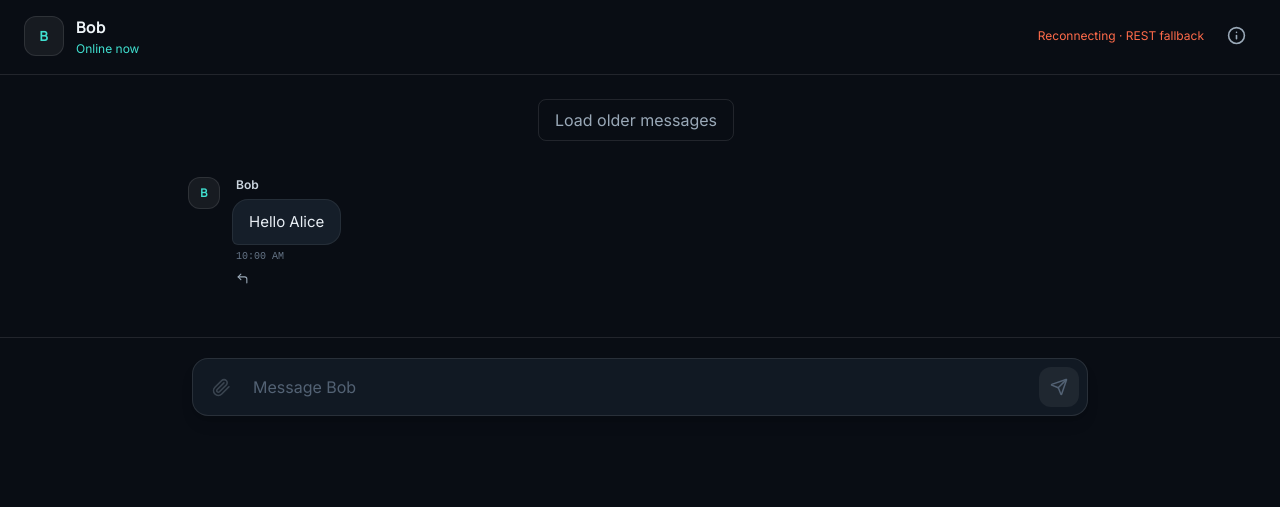
Test: chat controls › loads older cursor history in deterministic order
This screenshot has width=1280, height=507.
Click the button "Load older messages".
click(636, 120)  # box [538, 99, 734, 141]
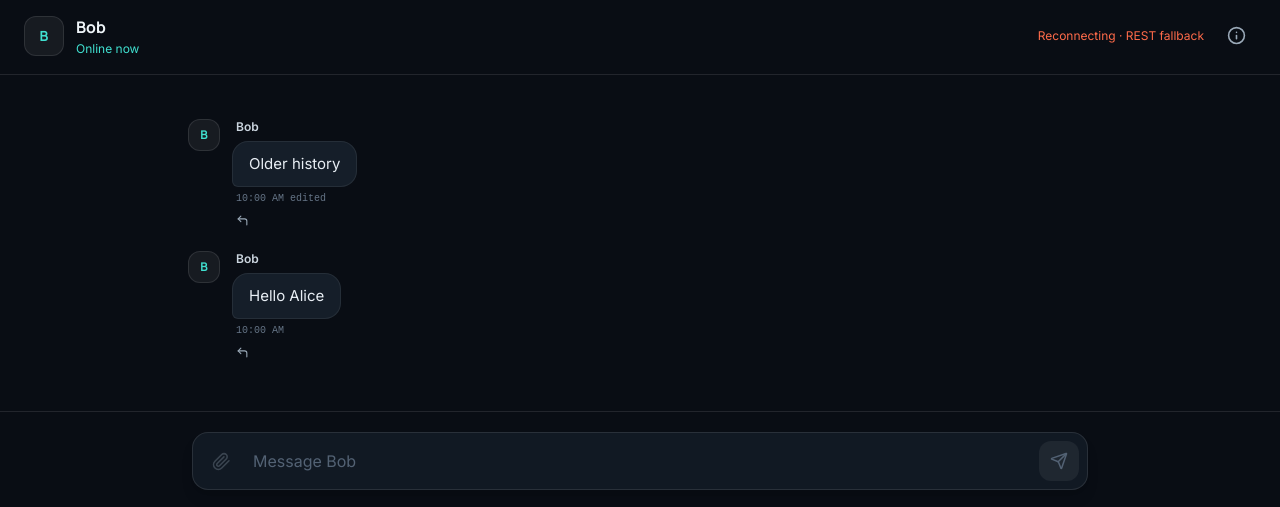
Result: the button "Load older messages" is gone
